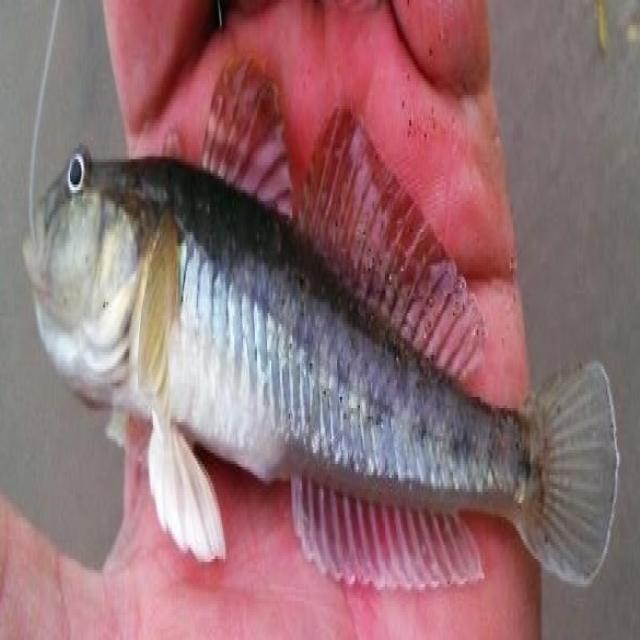Goby: (16, 10, 640, 613)
